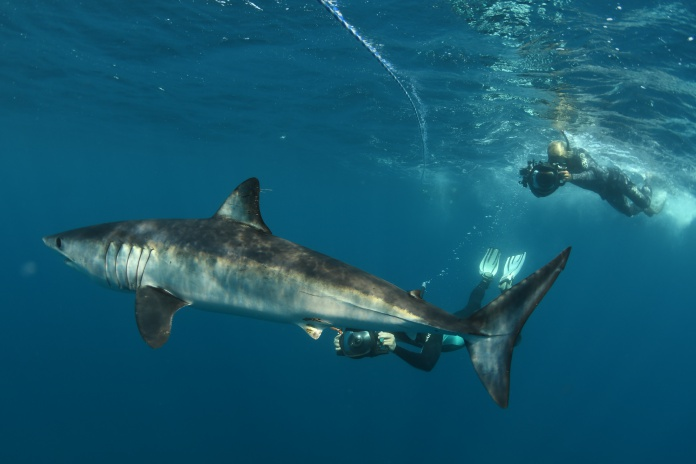Mako: (37, 171, 586, 441)
